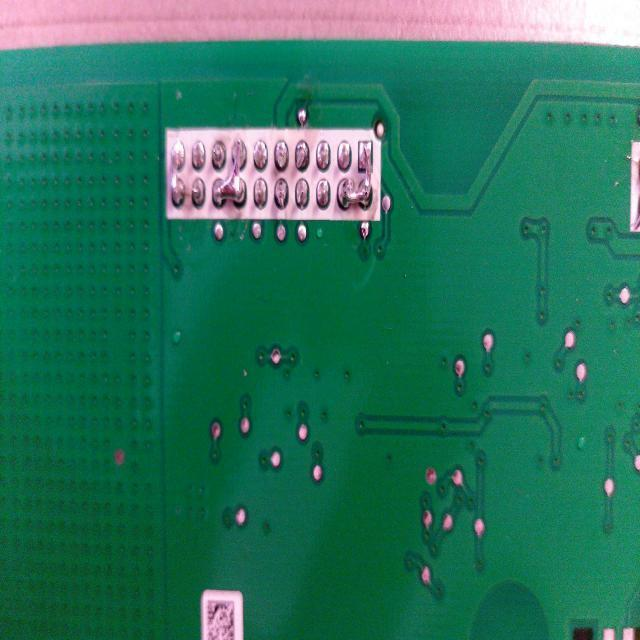Soldering shorted: (210, 118, 250, 222), (336, 132, 378, 218), (168, 130, 188, 216)
